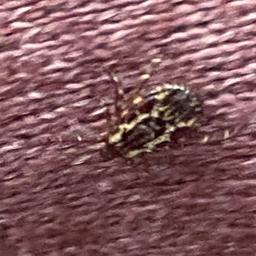Dermacentor variabilis: (35, 65, 250, 192)
